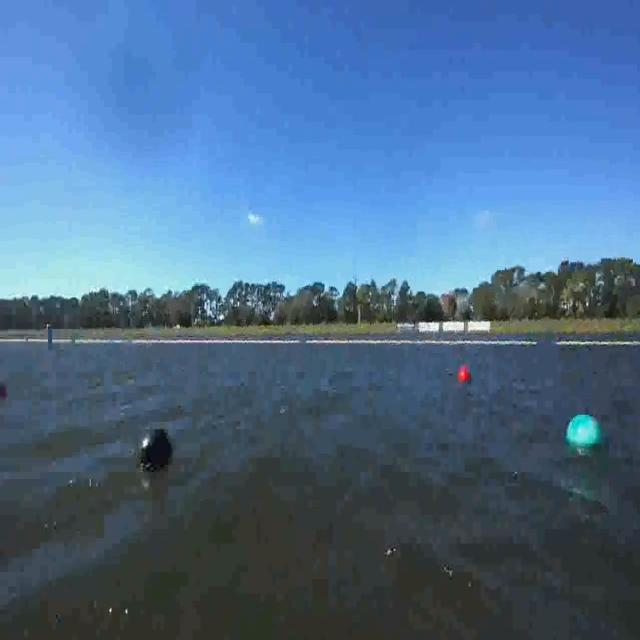black-buoy: (139, 432, 171, 474)
green-buoy: (561, 414, 607, 468)
red-buoy: (458, 364, 471, 384)
